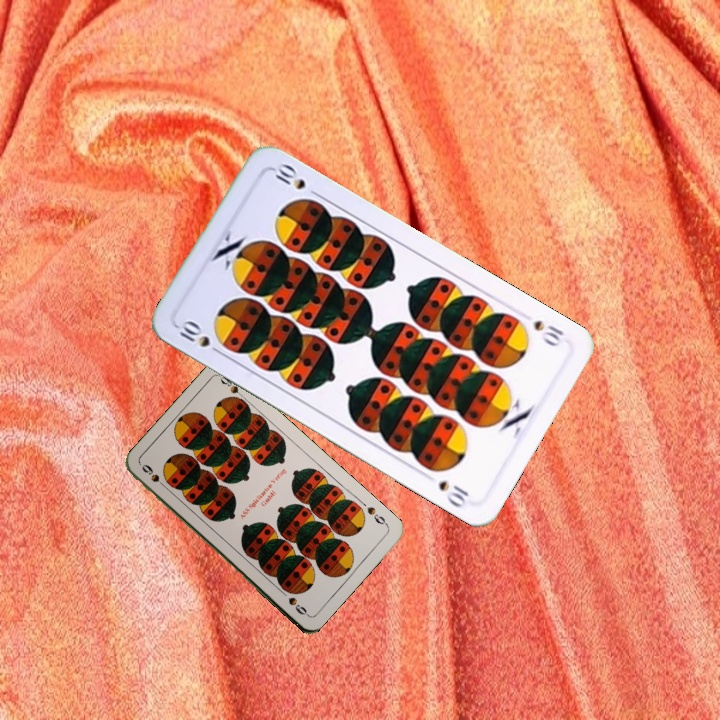S10: (173, 316, 226, 358), (529, 316, 567, 350)
S9: (137, 460, 171, 492), (363, 502, 391, 529)
